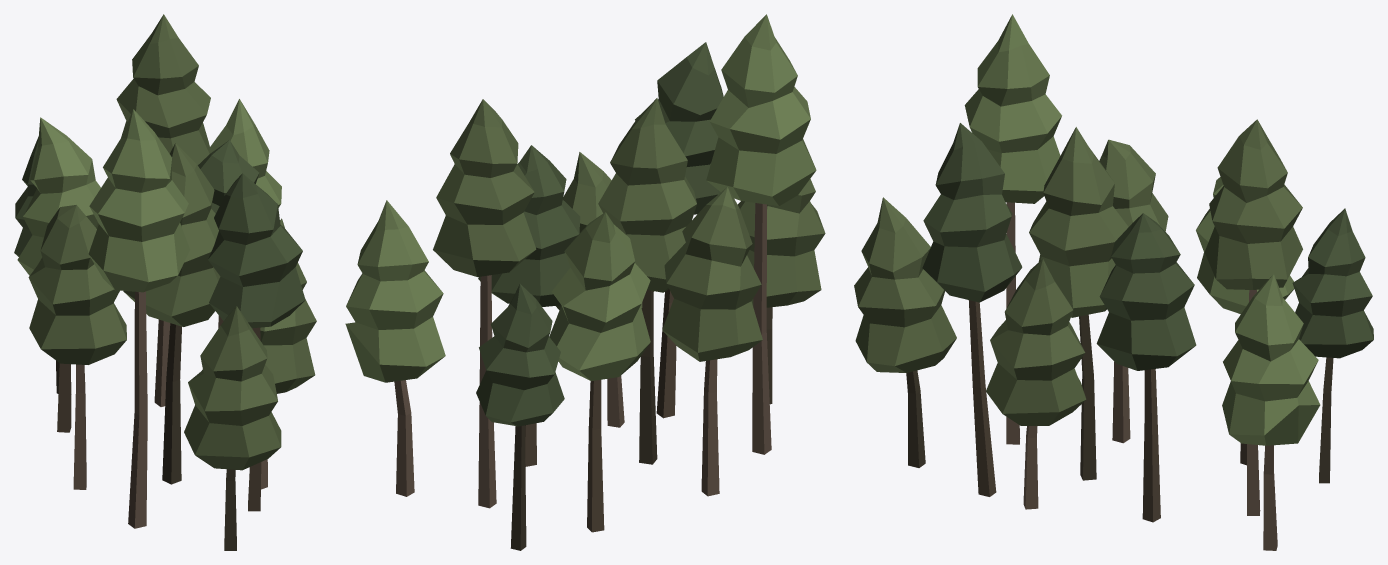
The model's file is apoc_SM_Env_Tree_Pine_Cluster_02.gltf.
The picture shows the model from 3 angles, left to right: view 1: azimuth 30°, elevation 25°; view 2: azimuth 150°, elevation 25°; view 3: azimuth 270°, elevation 25°; orthographic projection. The views are drawn at different scales.
Parts seen in each view (by area): view 1: SM_Env_Tree_Pine_Cluster_02; view 2: SM_Env_Tree_Pine_Cluster_02; view 3: SM_Env_Tree_Pine_Cluster_02.
Part boxes in pixels (x1,y1,x2,y2): SM_Env_Tree_Pine_Cluster_02: [14, 14, 316, 550]; SM_Env_Tree_Pine_Cluster_02: [345, 14, 825, 550]; SM_Env_Tree_Pine_Cluster_02: [854, 14, 1373, 550].
Size of the model in its own units: 10.66 by 13.53 by 14.99.
1 material, 1 textured.
